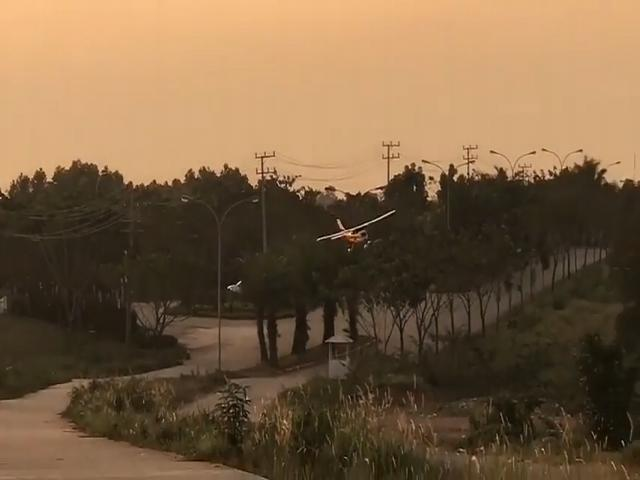plane: (318, 211, 395, 250)
